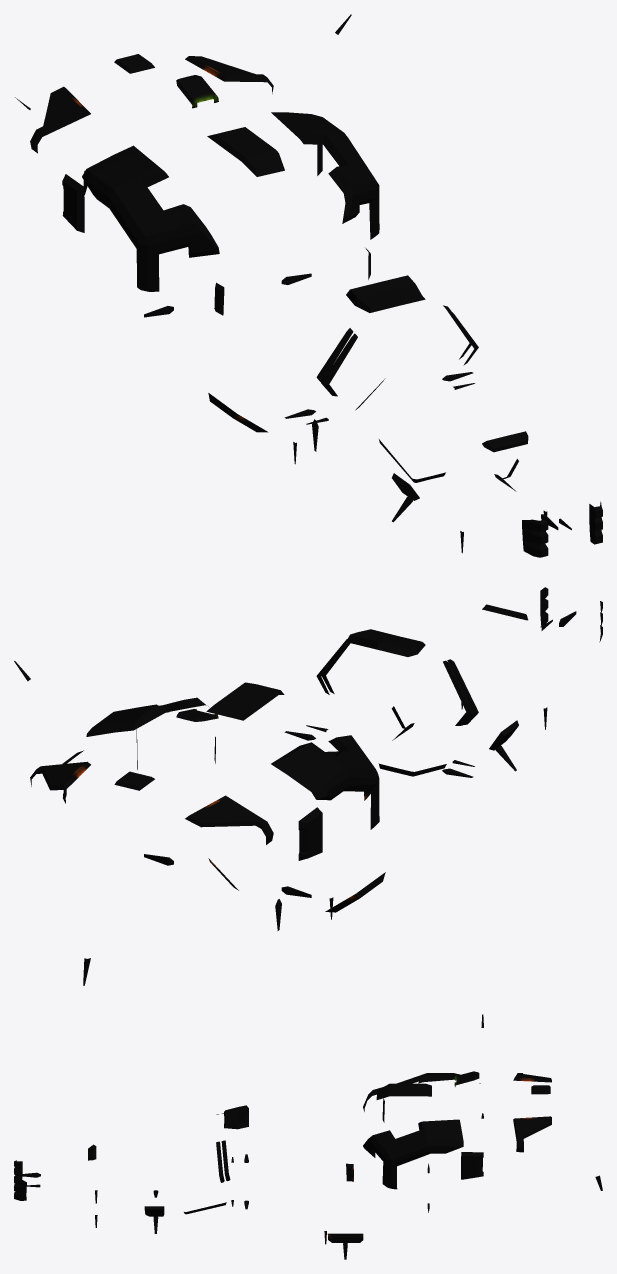
Rendered from tan_cd_dest_01_t1.glb.
3 renders of one model, top to bottom at view 1: azimuth 30°, elevation 25°; view 2: azimuth 150°, elevation 25°; view 3: azimuth 270°, elevation 25°, orthographic. The views are drawn at different scales.
Parts seen in each view (by area): view 1: tan_destroyer_t1_LOD0; view 2: tan_destroyer_t1_LOD0; view 3: tan_destroyer_t1_LOD0.
Part boxes in pixels (x1,y1,x2,y2): tan_destroyer_t1_LOD0: [15, 14, 602, 557]; tan_destroyer_t1_LOD0: [14, 587, 602, 985]; tan_destroyer_t1_LOD0: [14, 1014, 602, 1259].
Size of what is drawn, in the model's own units: 2.28 by 2.05 by 5.73.
1 material, 1 textured.
